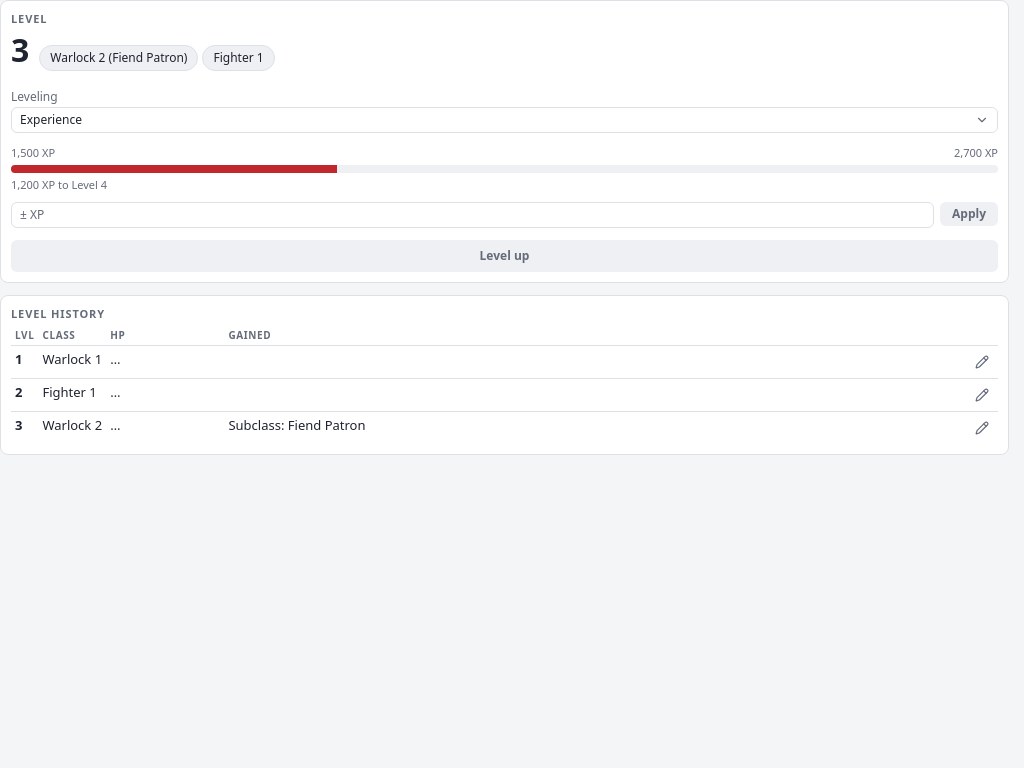
it: LevelSection › keeps the total on a failed save and retries the same amount
The image size is (1024, 768).
In the number field named "Adjust experience points": (472, 214) top-left (11, 202), bottom-right (934, 228), type "250"
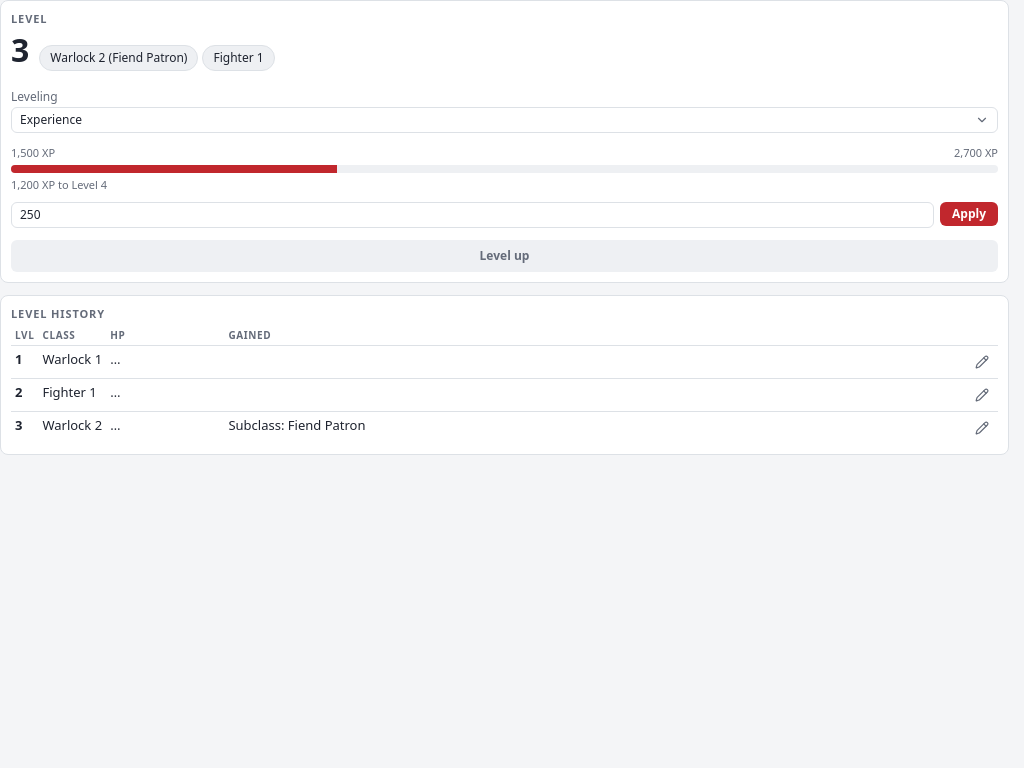
Click the button "Apply": (969, 214) top-left (940, 202), bottom-right (998, 226)
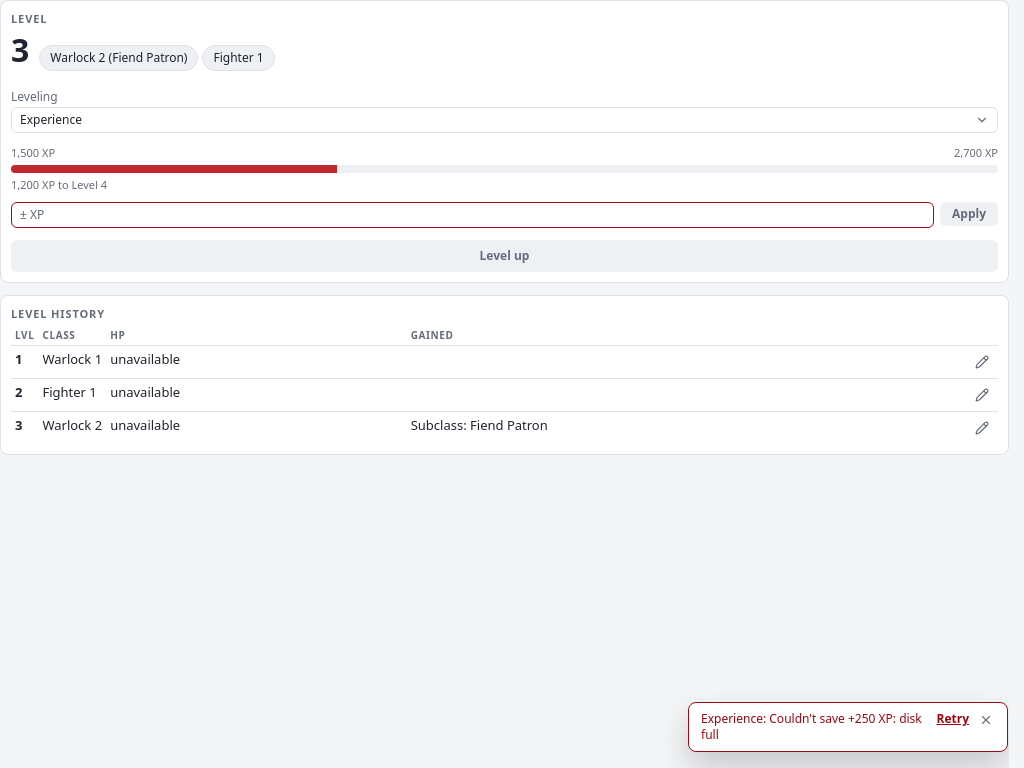
Expected: the text "1,500 XP" is shown, top-left (11, 144), bottom-right (55, 161)
Expected: the text "Experience: Couldn't save +250 XP: disk full" is shown, top-left (701, 711), bottom-right (928, 743)
Click the button "Retry ": (953, 719) top-left (936, 711), bottom-right (969, 727)
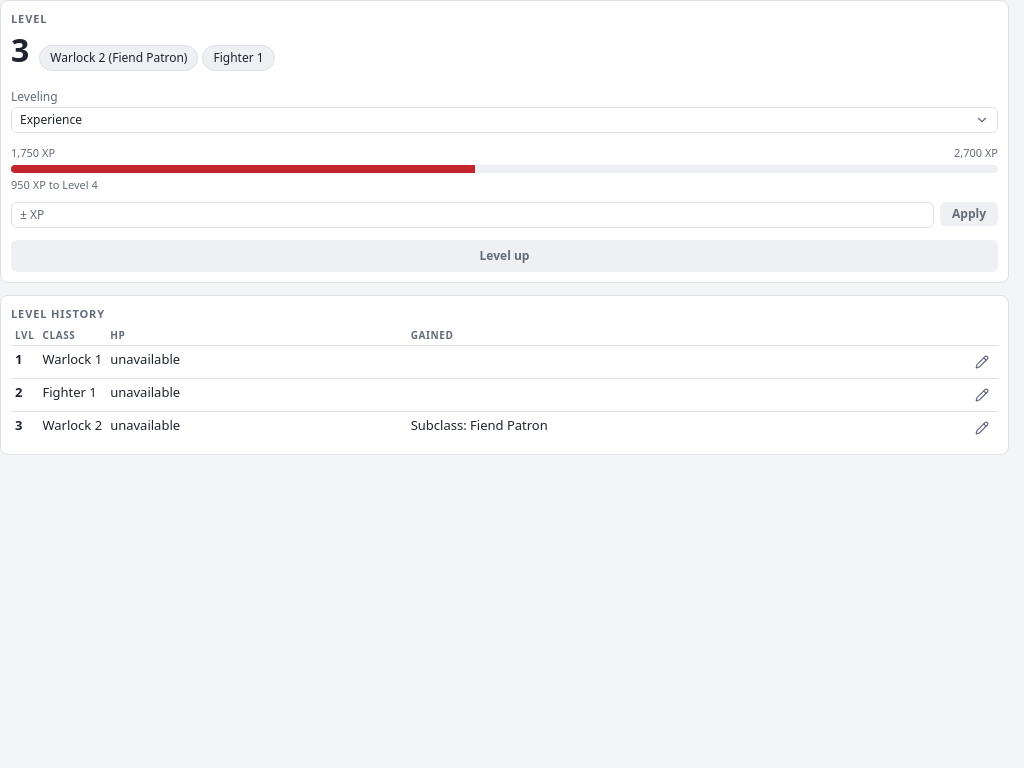
Expected: the text "1,750 XP" is shown, top-left (11, 144), bottom-right (55, 161)
